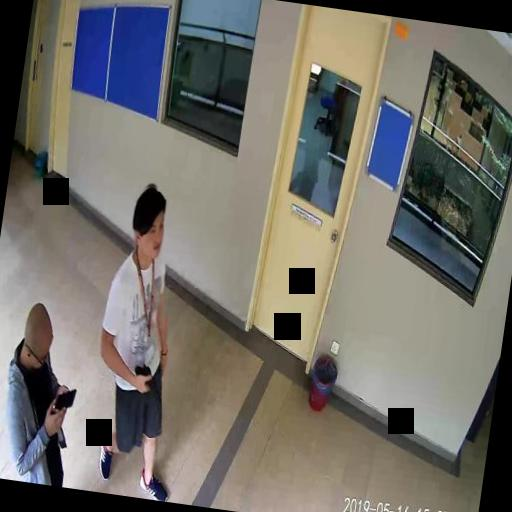Handgun: (130, 362, 164, 402)
